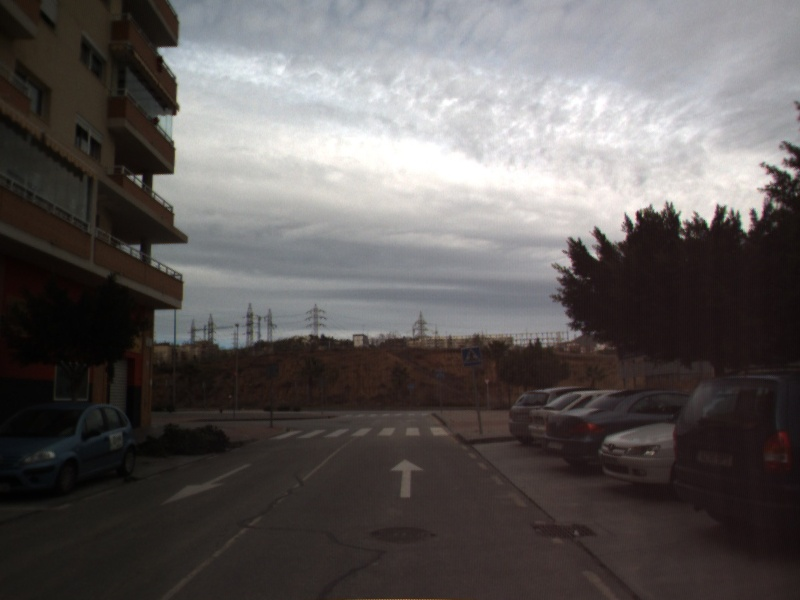STRAIGHT: (387, 456, 426, 499)
